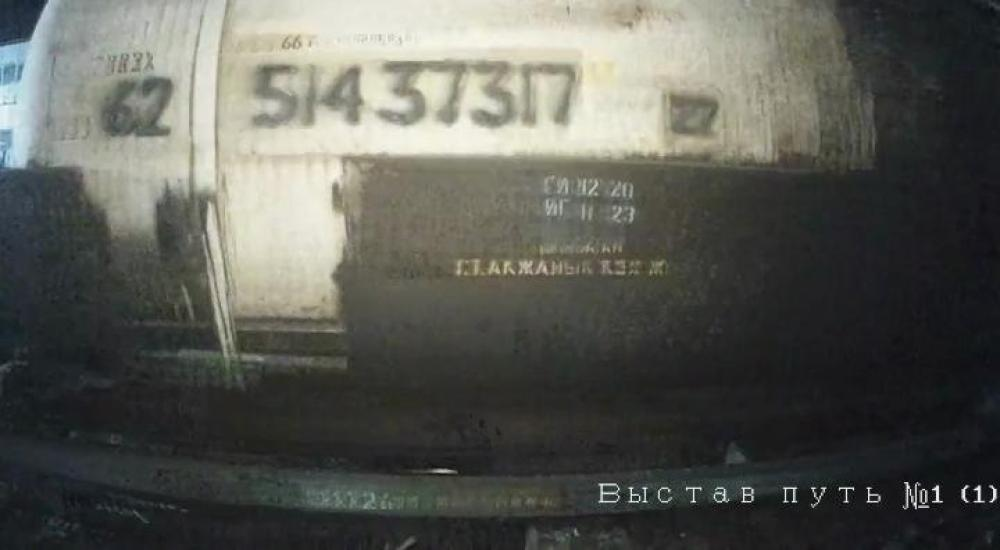Wagon-number: (240, 54, 592, 136)
